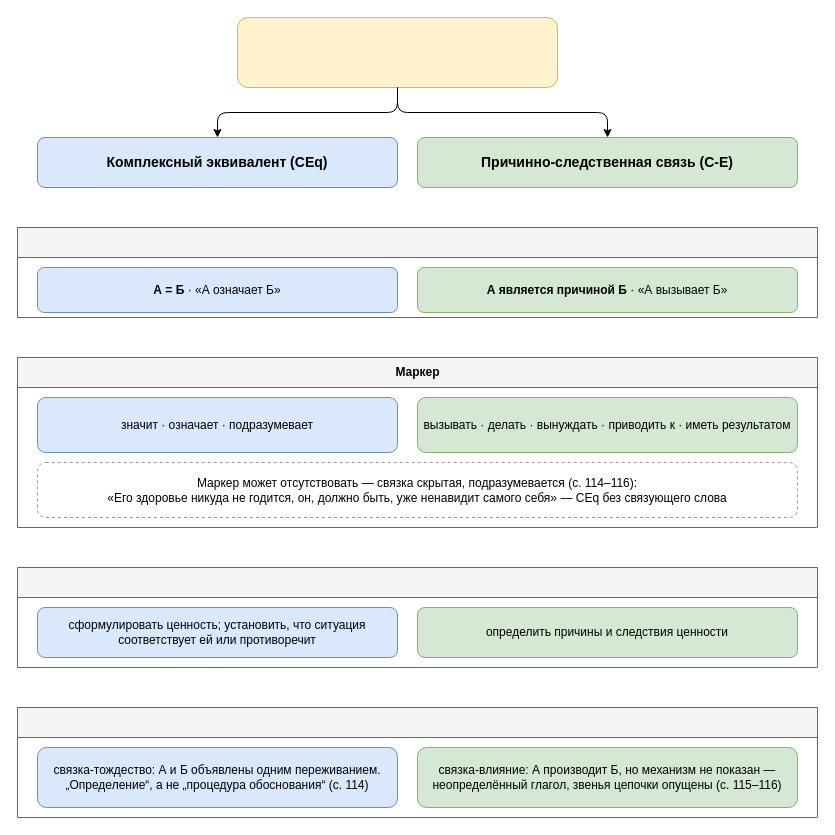
Some shapes in this 835 by 835 pixel diagram are drawn without their labels. Here are the shapes that lost their labels. From the top down, the box of each, then its label:
(236, 16, 558, 88): Фраза-убеждение две лингвистические формы · гл. 6, с. 113–115
(16, 226, 818, 318): Формула
(16, 566, 818, 668): Функция
(16, 706, 818, 818): Суть
